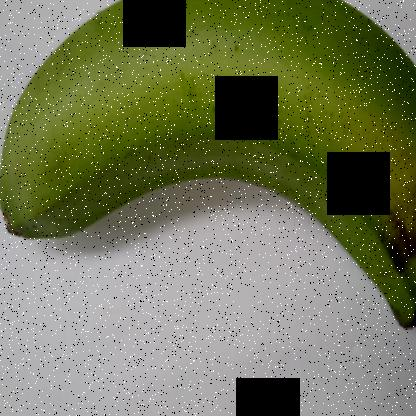freshunripe: (1, 1, 415, 349)
